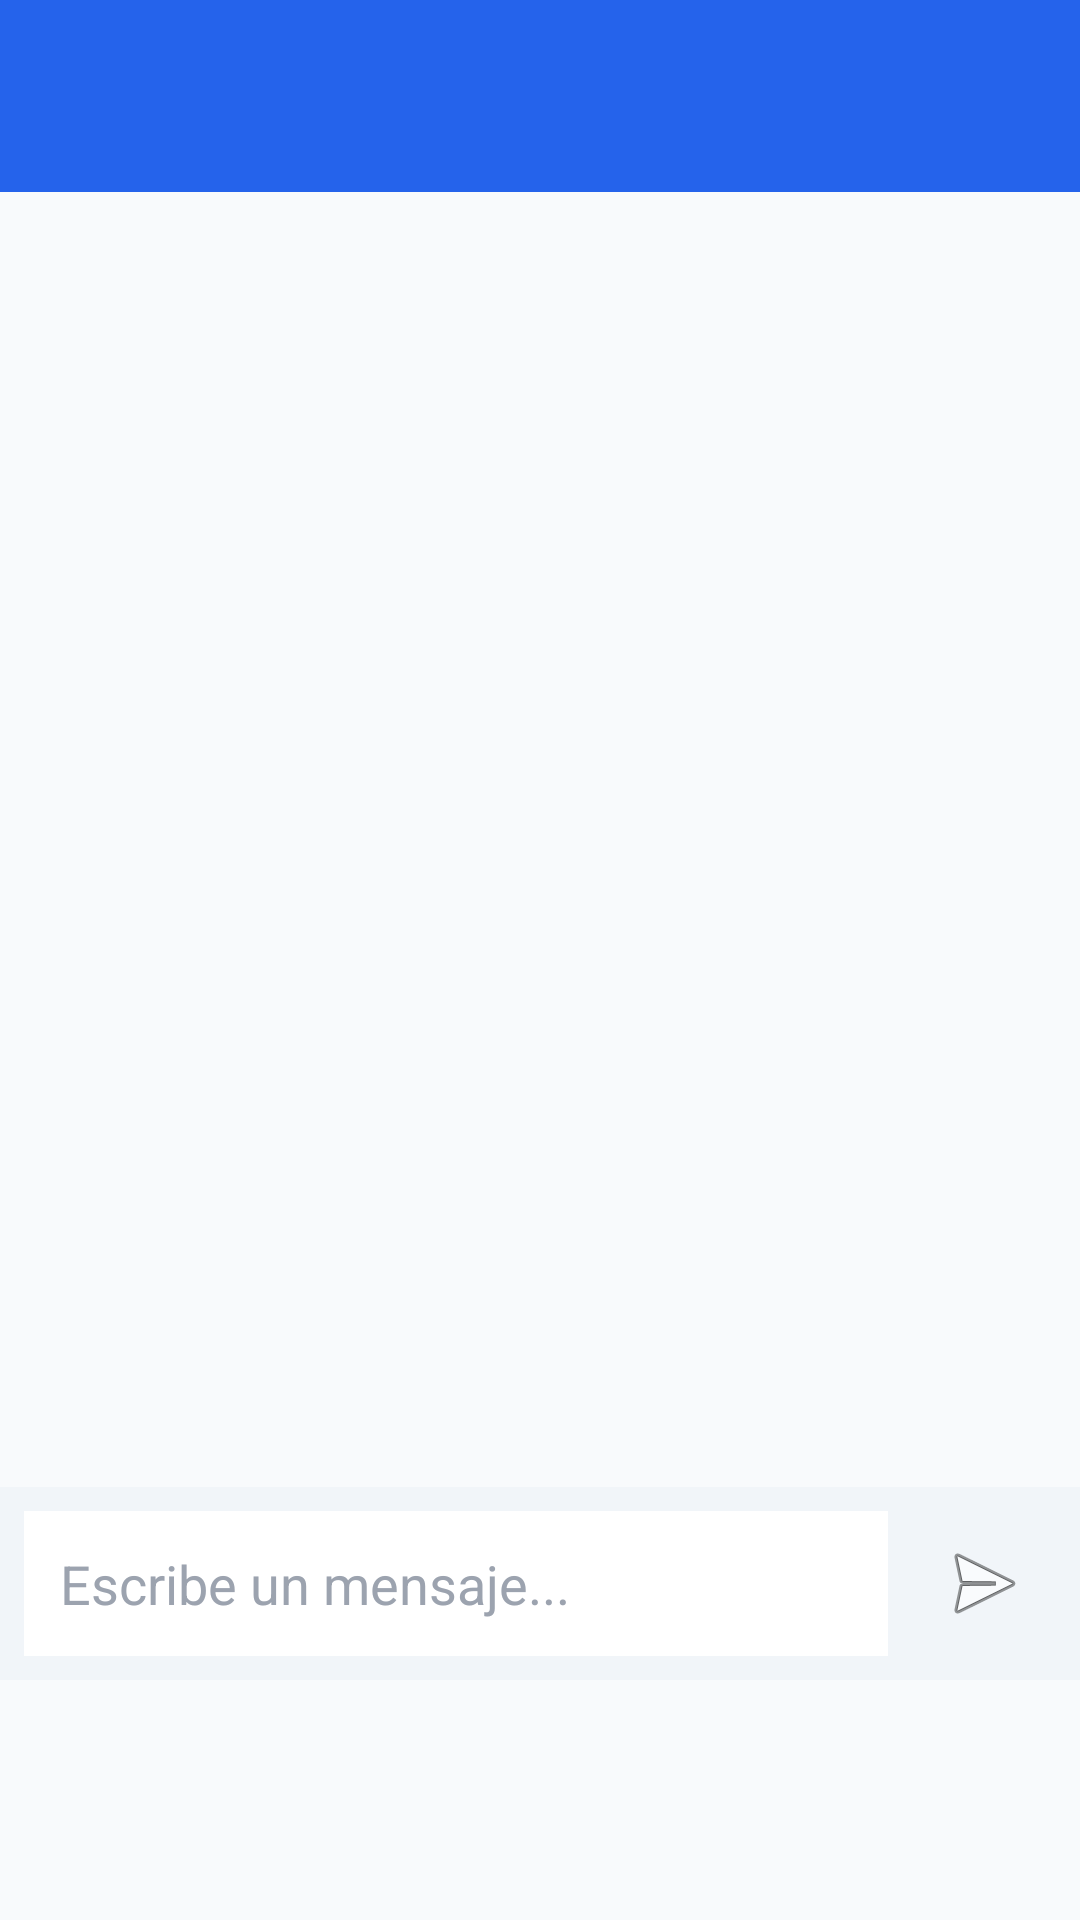

Point at icon controls on the screen. Image size 1080w x 1920h, points as (x,y).
Enviar: (985,1583)
